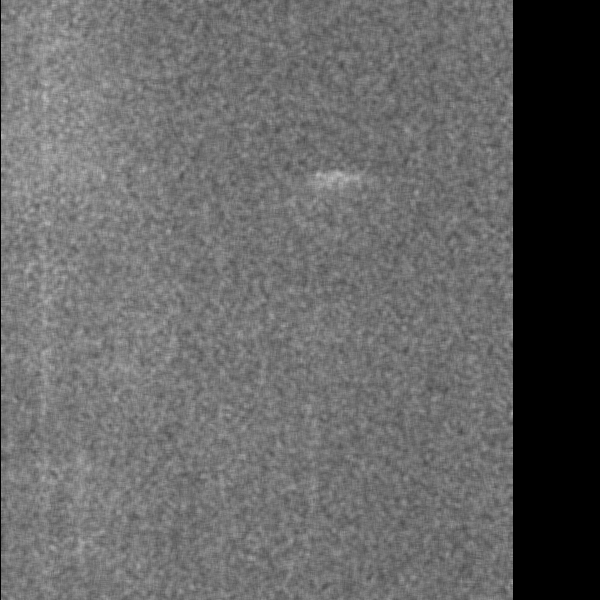spark: (318, 166, 351, 196)
